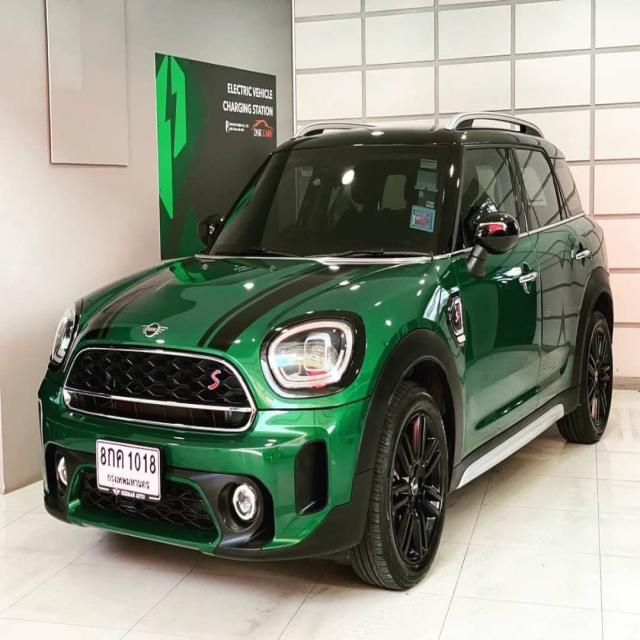license_plate: (92, 434, 165, 511)
